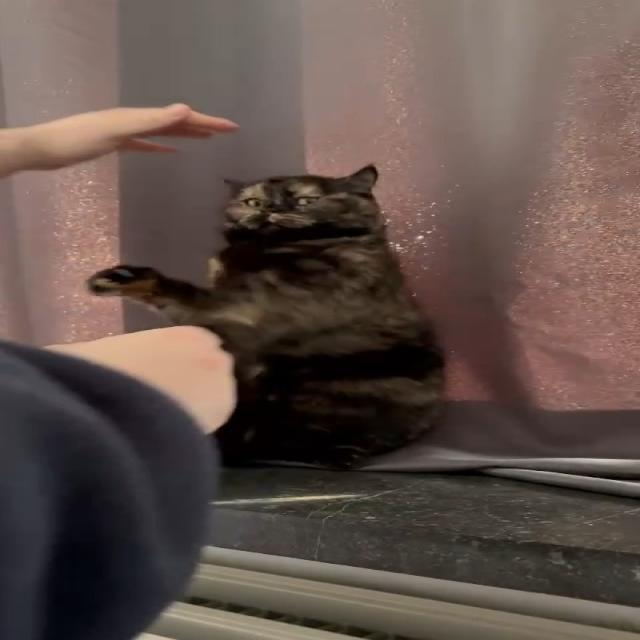authorized: (85, 162, 448, 470)
